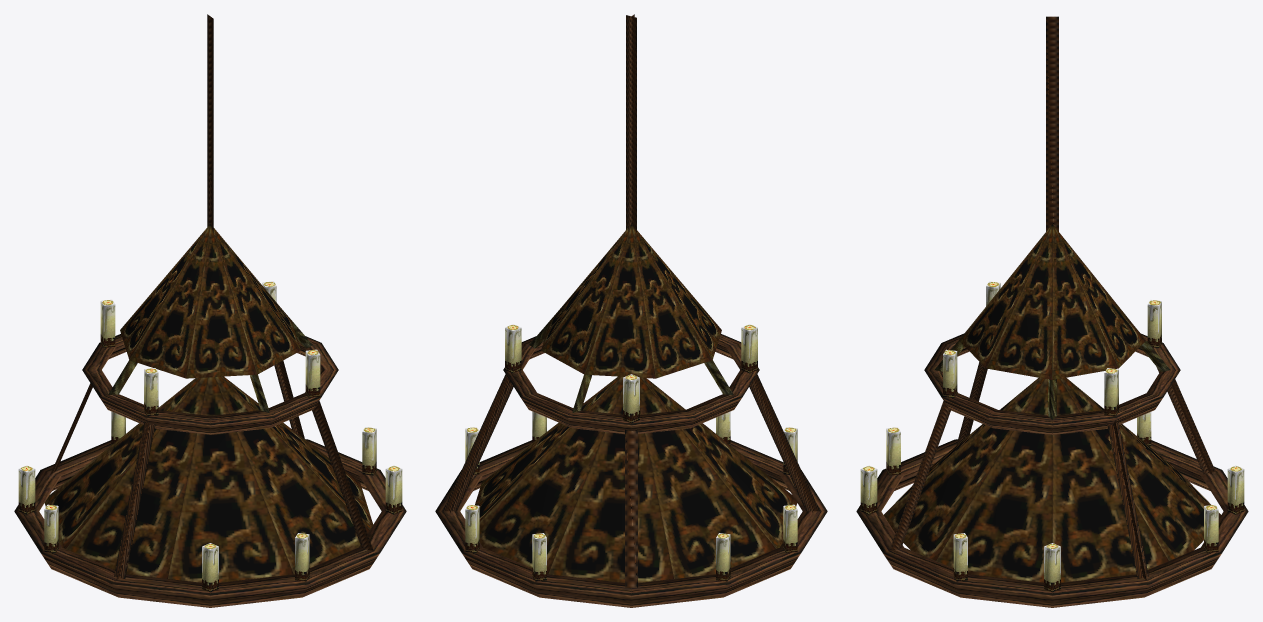
Rendered from INST_LT_CHANDELIER.fbx.
The picture shows the model from 3 angles, left to right: view 1: azimuth 30°, elevation 25°; view 2: azimuth 150°, elevation 25°; view 3: azimuth 270°, elevation 25°; orthographic projection.
Parts seen in each view (by area): view 1: INST_LT_CHANDELIER; view 2: INST_LT_CHANDELIER; view 3: INST_LT_CHANDELIER.
Part boxes in pixels (x1,y1,x2,y2): INST_LT_CHANDELIER: (14, 14, 406, 607); INST_LT_CHANDELIER: (435, 14, 827, 607); INST_LT_CHANDELIER: (856, 16, 1248, 607).
Bounding box in the file's own units: 21210 × 32834 × 21210.
Materials: 6 (6 with a texture image).
